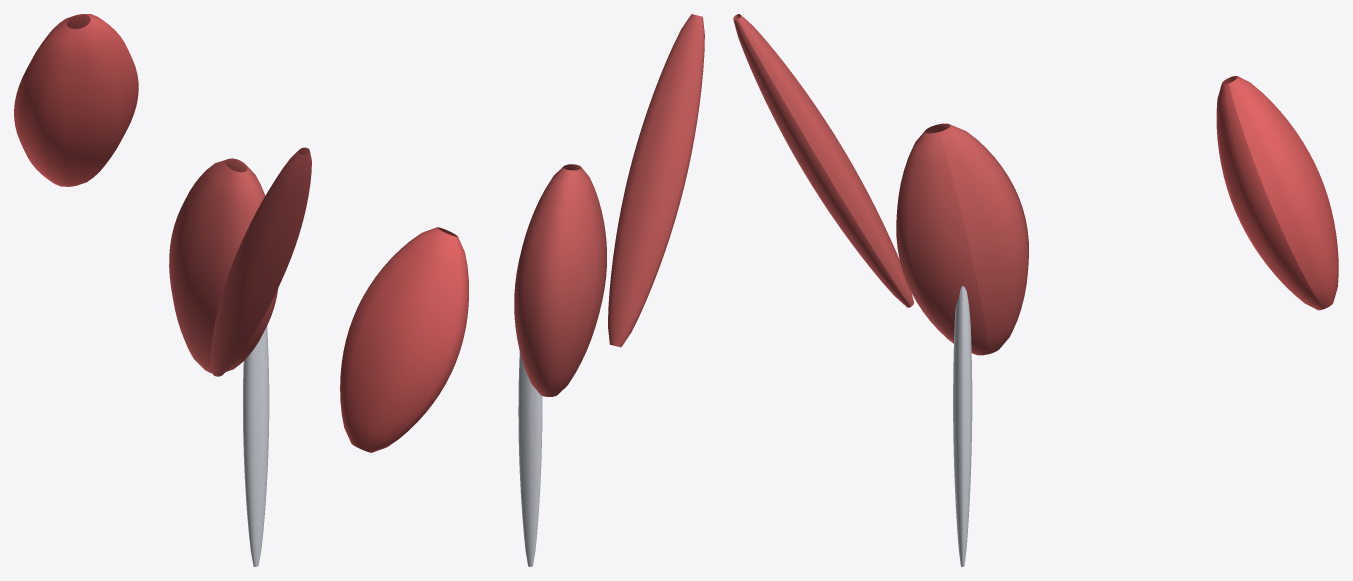
The model's file is muscular.glb.
3 renders of one model, left to right at view 1: azimuth 30°, elevation 25°; view 2: azimuth 150°, elevation 25°; view 3: azimuth 270°, elevation 25°, orthographic. The views are drawn at different scales.
Parts seen in each view (by area): view 1: Mesh_Equine_MusculusGluteusMedius, Mesh_Equine_MusculusSerratusVentralis, Mesh_Equine_MusculusBrachiocephalicus, Mesh_Equine_ApparatusStatocinetica; view 2: Mesh_Equine_MusculusGluteusMedius, Mesh_Equine_MusculusSerratusVentralis, Mesh_Equine_MusculusBrachiocephalicus, Mesh_Equine_ApparatusStatocinetica; view 3: Mesh_Equine_MusculusSerratusVentralis, Mesh_Equine_MusculusGluteusMedius, Mesh_Equine_MusculusBrachiocephalicus, Mesh_Equine_ApparatusStatocinetica.
Part boxes in pixels (<box>): Mesh_Equine_MusculusGluteusMedius: <box>14,14,138,186</box>; Mesh_Equine_MusculusSerratusVentralis: <box>169,158,278,373</box>; Mesh_Equine_MusculusBrachiocephalicus: <box>210,147,311,376</box>; Mesh_Equine_ApparatusStatocinetica: <box>243,326,269,566</box>; Mesh_Equine_MusculusGluteusMedius: <box>340,227,468,452</box>; Mesh_Equine_MusculusSerratusVentralis: <box>514,164,606,396</box>; Mesh_Equine_MusculusBrachiocephalicus: <box>608,14,704,347</box>; Mesh_Equine_ApparatusStatocinetica: <box>518,351,542,566</box>; Mesh_Equine_MusculusSerratusVentralis: <box>896,123,1028,355</box>; Mesh_Equine_MusculusGluteusMedius: <box>1216,76,1338,310</box>; Mesh_Equine_MusculusBrachiocephalicus: <box>733,14,913,307</box>; Mesh_Equine_ApparatusStatocinetica: <box>953,286,972,566</box>.
Size of the model in its own units: 0.3144 by 1.24 by 1.31.
